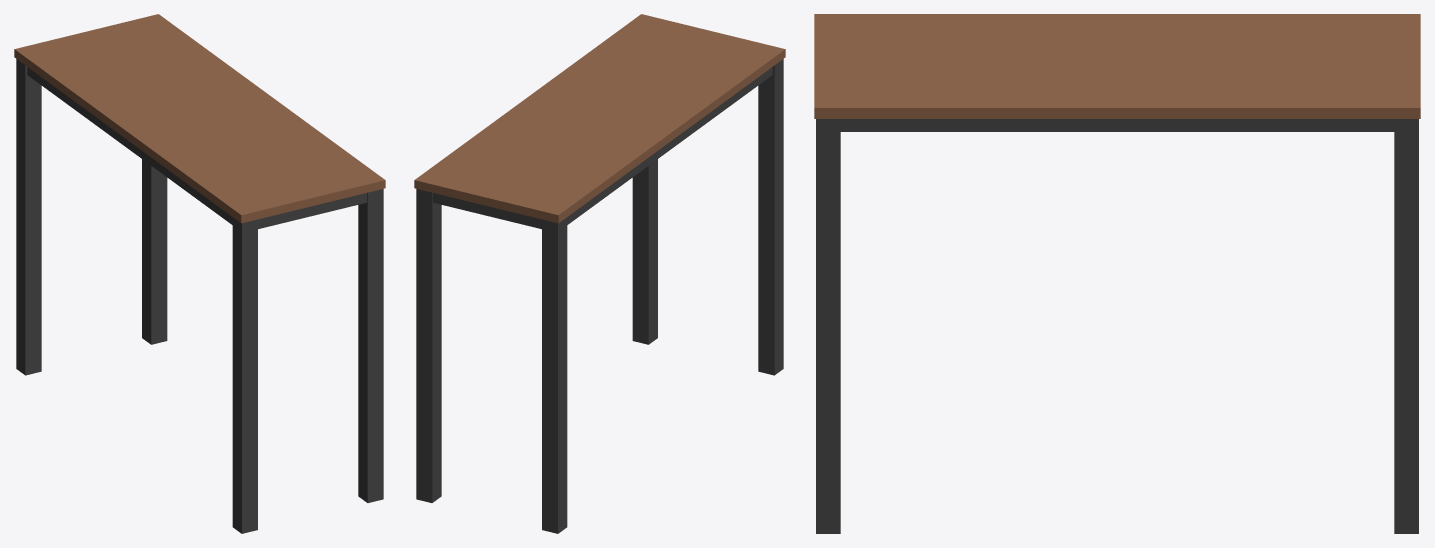
The model's file is Table_06_C3.fbx.
The picture shows the model from 3 angles, left to right: view 1: azimuth 30°, elevation 25°; view 2: azimuth 150°, elevation 25°; view 3: azimuth 270°, elevation 25°; orthographic projection. The views are drawn at different scales.
Parts seen in each view (by area): view 1: Table_06_C3; view 2: Table_06_C3; view 3: Table_06_C3.
Part boxes in pixels (x1,y1,x2,y2): Table_06_C3: (14, 14, 385, 533); Table_06_C3: (414, 14, 785, 533); Table_06_C3: (814, 14, 1420, 533).
Size of the model in its own units: 55 by 117 by 150.
